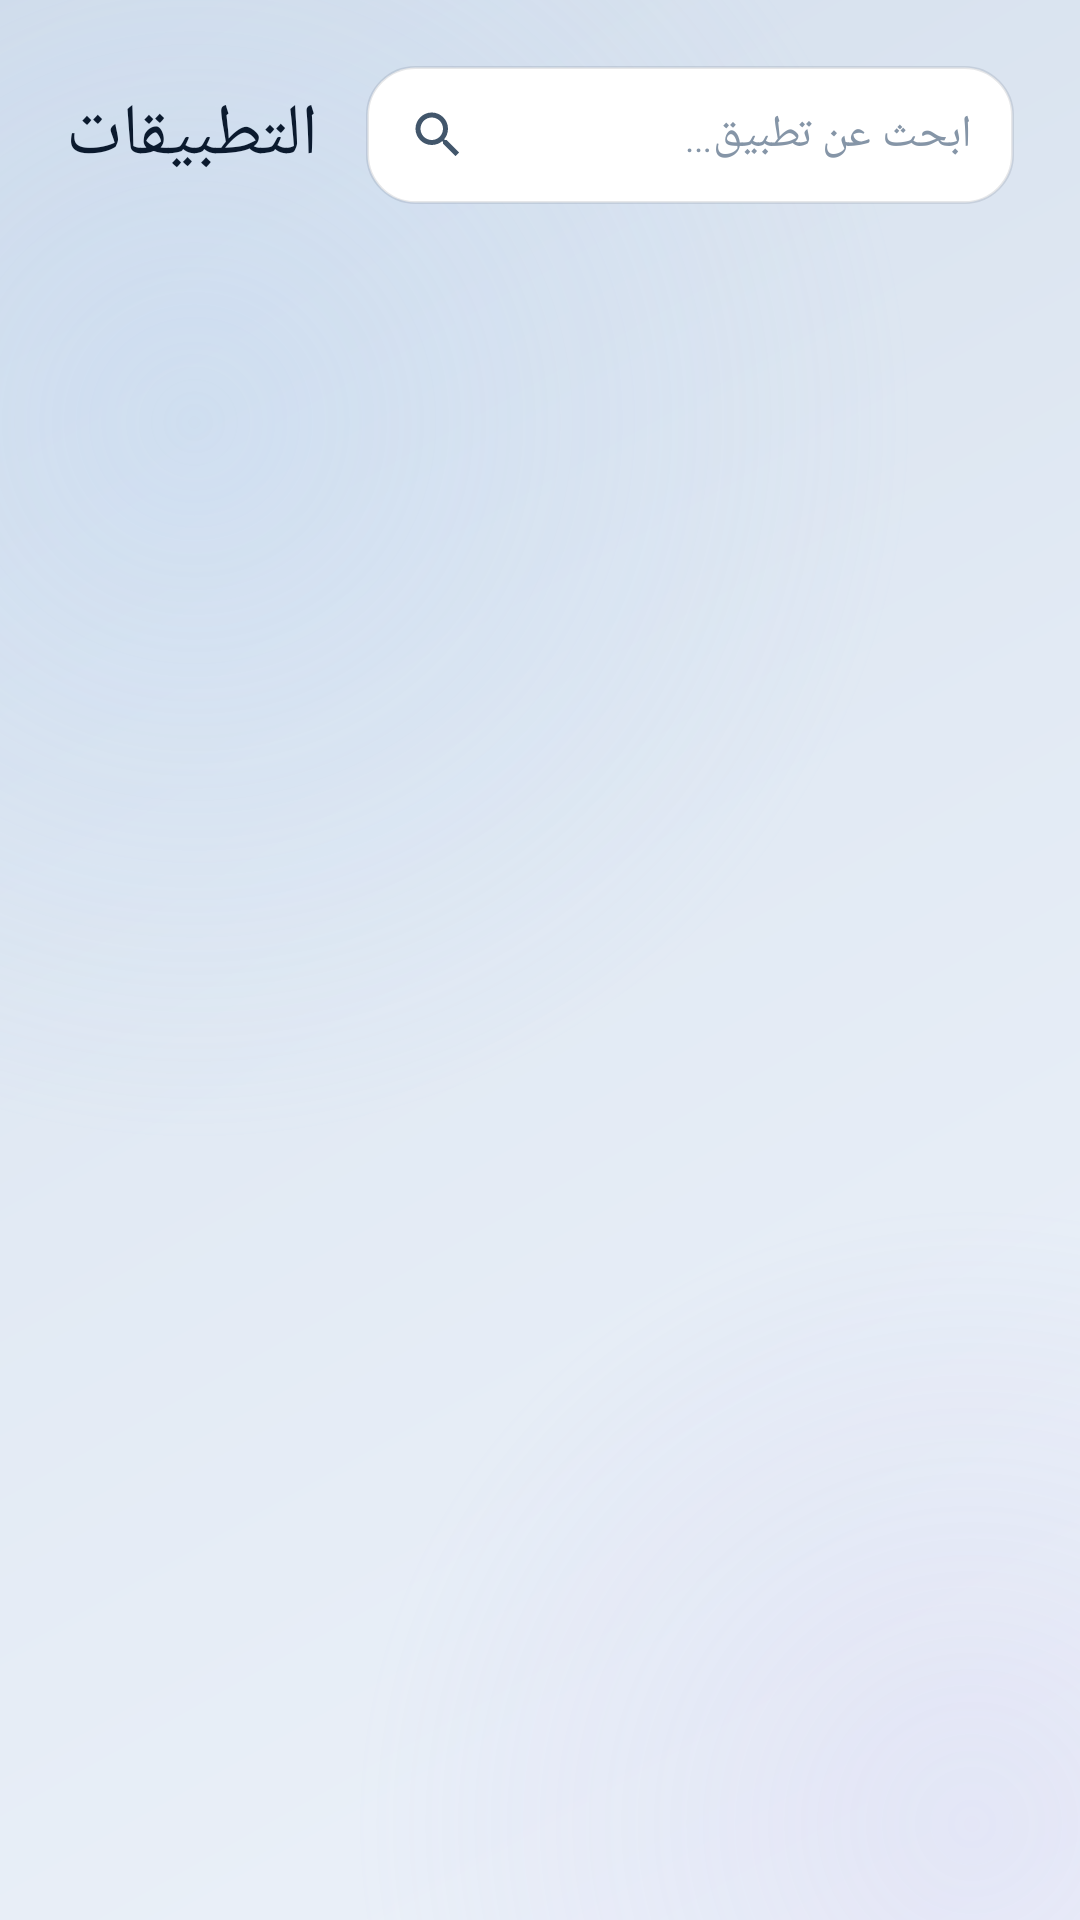

Screen size 1080*1920. Icon name, then its center in pixels as point (x, y):
search: point (437, 134)
